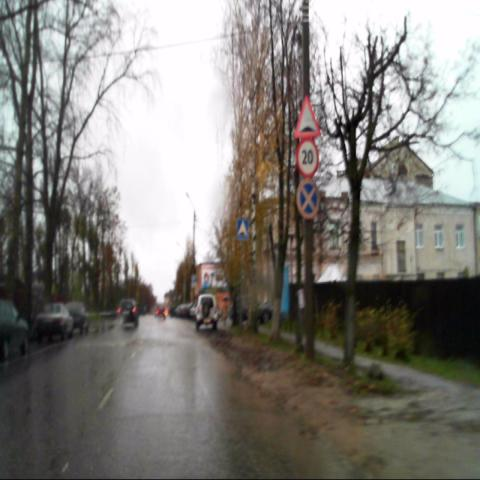3_24: (296, 137, 319, 179)
